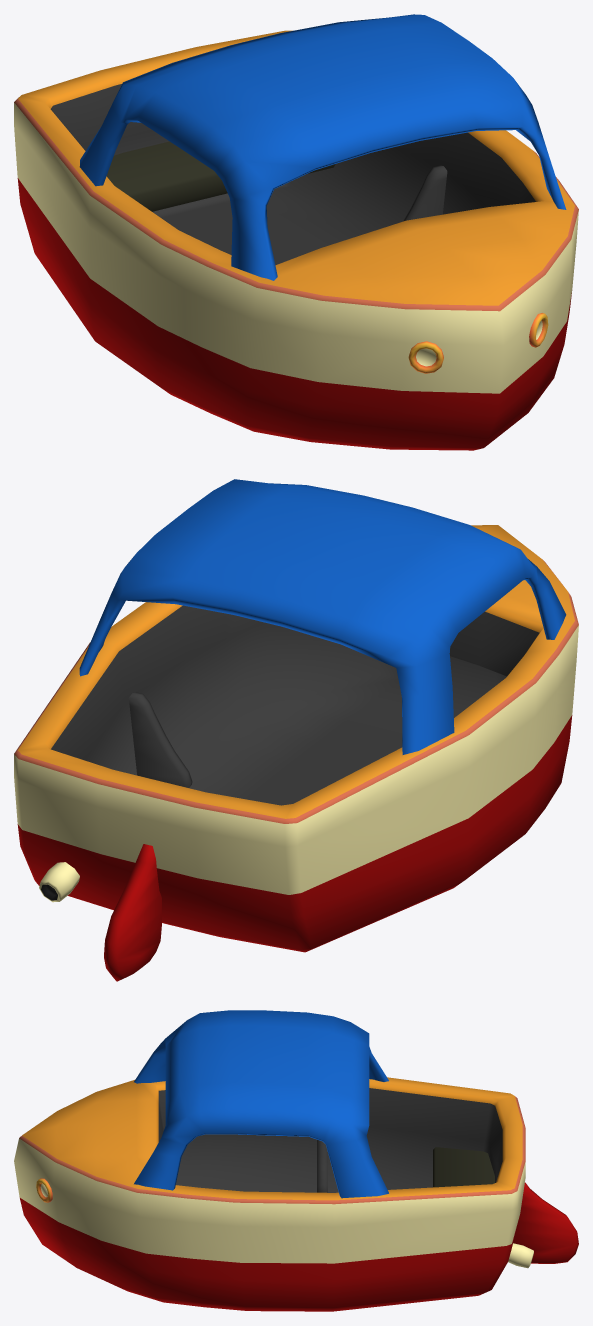
Rendered from Boat5.fbx.
3 views of the same model, one above another, from view 1: azimuth 30°, elevation 25°; view 2: azimuth 150°, elevation 25°; view 3: azimuth 270°, elevation 25° (orthographic). The views are drawn at different scales.
Parts seen in each view (by area): view 1: Ghibli:pPlane46_lambert4_0.002; view 2: Ghibli:pPlane46_lambert4_0.002; view 3: Ghibli:pPlane46_lambert4_0.002.
Boxes of the visible parts, x1=… form: Ghibli:pPlane46_lambert4_0.002: x1=14, y1=14, x2=578, y2=450; Ghibli:pPlane46_lambert4_0.002: x1=14, y1=479, x2=578, y2=981; Ghibli:pPlane46_lambert4_0.002: x1=14, y1=1010, x2=578, y2=1311.
Bounding box in the file's own units: 1.35 × 1.01 × 2.43.
